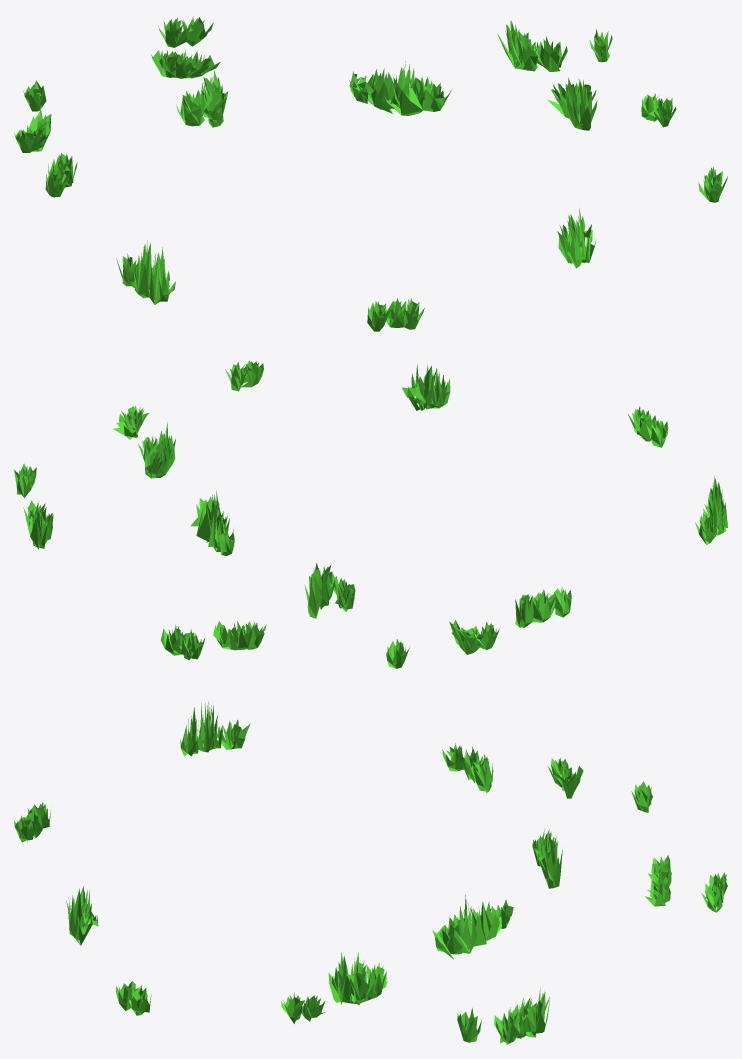
Rendered from trawa.fbx.
3 views of the same model, one above another, from view 1: azimuth 30°, elevation 25°; view 2: azimuth 150°, elevation 25°; view 3: azimuth 270°, elevation 25° (orthographic). The views are drawn at different scales.
Parts seen in each view (by area): view 1: Circle.038; view 2: Circle.038; view 3: Circle.038.
Boxes of the visible parts, left/top/right/bottom form: Circle.038: left=14, top=16, right=727, bottom=331; Circle.038: left=14, top=360, right=727, bottom=668; Circle.038: left=14, top=701, right=727, bottom=1044.
Bounding box in the file's own units: 187 × 24.44 × 193.
